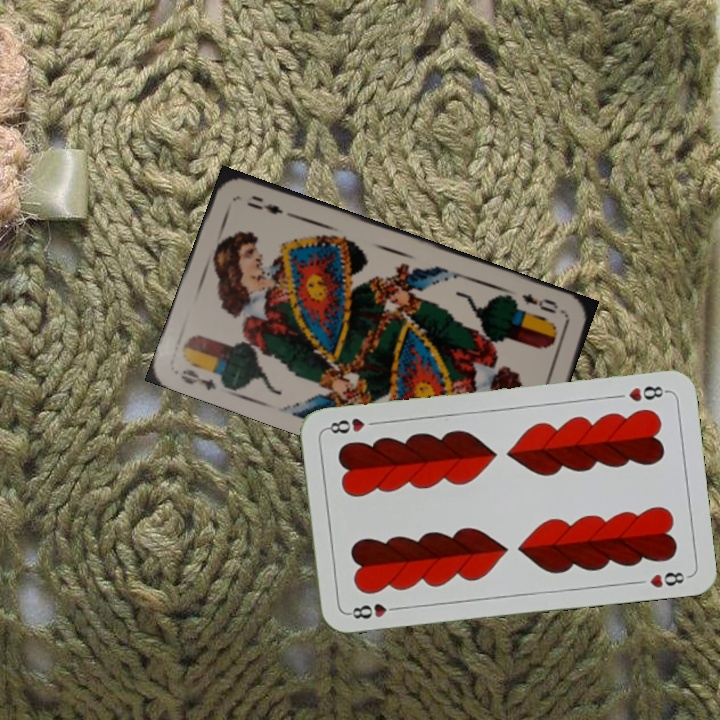EO: (517, 289, 561, 317), (176, 365, 219, 393)
H8: (344, 599, 403, 621), (624, 382, 671, 405)
